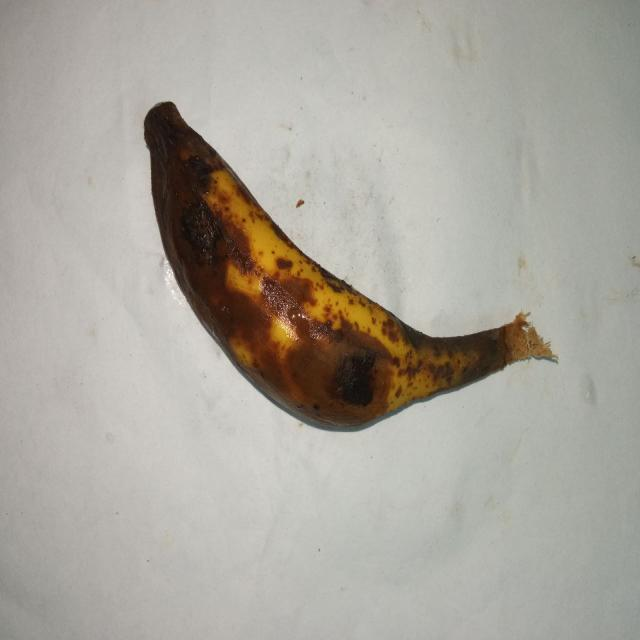rotten_banana: (144, 102, 510, 434)
